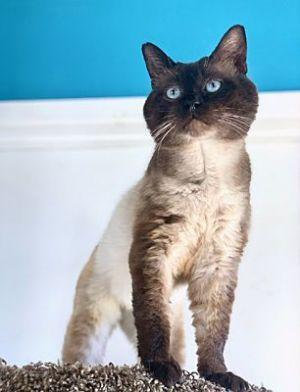siamese: (132, 20, 269, 159)
